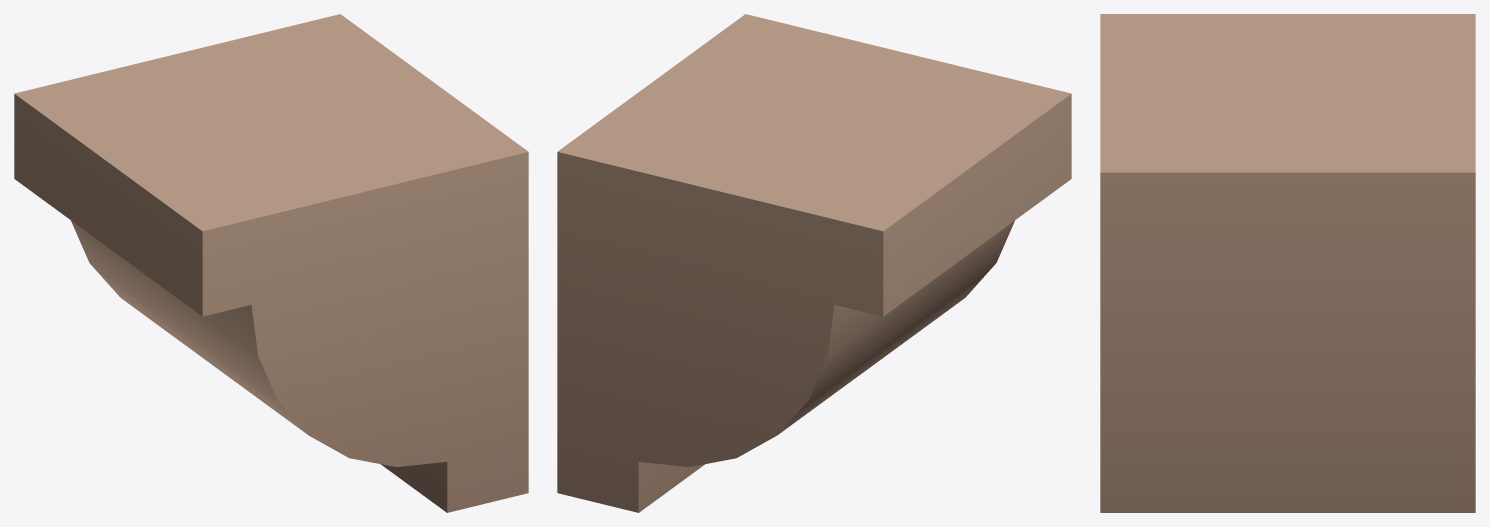
The model's file is corners-corner-basic-b.glb.
3 views of the same model, side by side, from view 1: azimuth 30°, elevation 25°; view 2: azimuth 150°, elevation 25°; view 3: azimuth 270°, elevation 25° (orthographic).
Visible parts, largest first — view 1: corners-corner-basic-b; view 2: corners-corner-basic-b; view 3: corners-corner-basic-b.
Boxes of the visible parts, <box> form: corners-corner-basic-b: <box>14,14,528,512</box>; corners-corner-basic-b: <box>557,14,1071,512</box>; corners-corner-basic-b: <box>1100,14,1475,512</box>.
Size of the model in its own units: 0.2 by 0.2 by 0.2.
